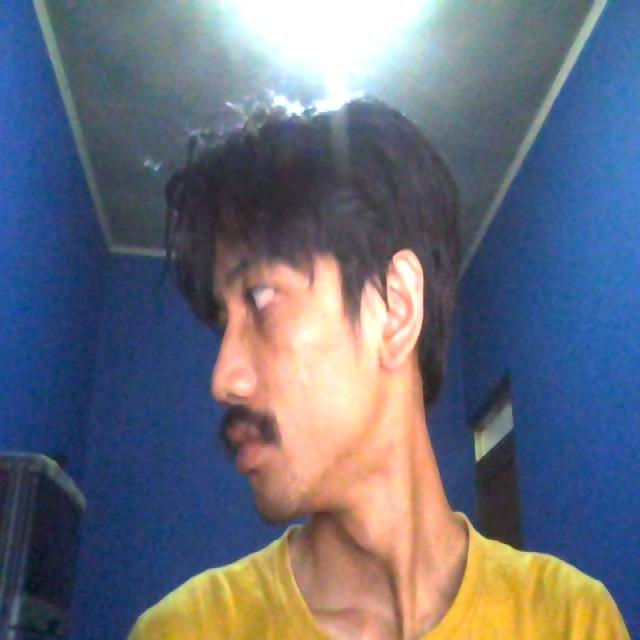Melihat kekanan: (148, 85, 510, 522)
